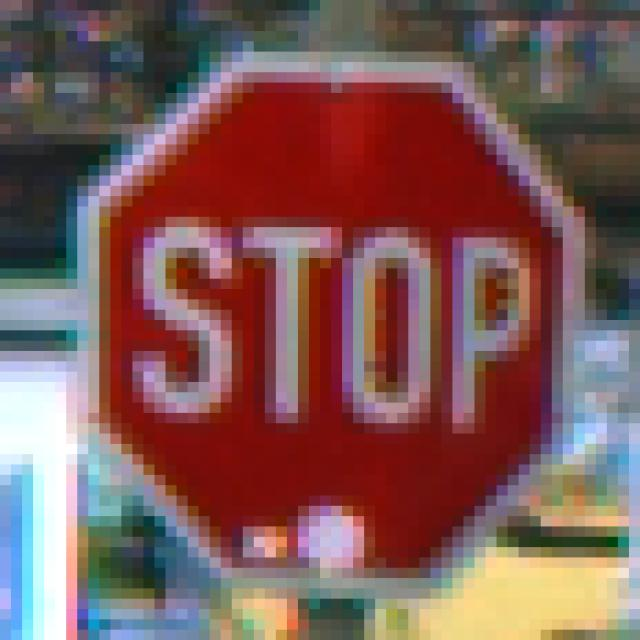STOP: (67, 53, 586, 590)
